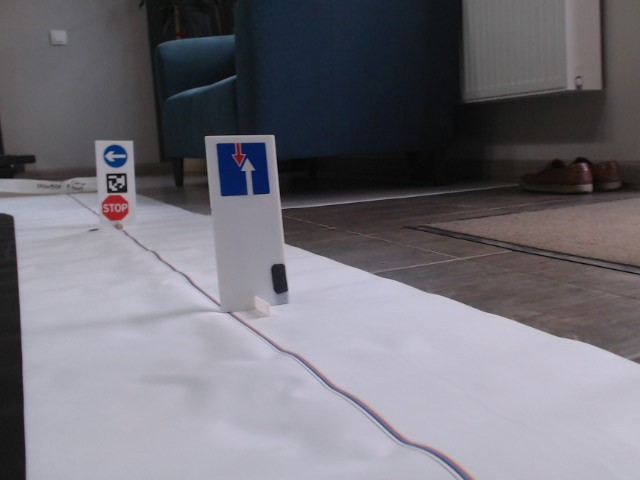Stop: (100, 194, 129, 220)
priority_movement: (214, 141, 271, 196)
